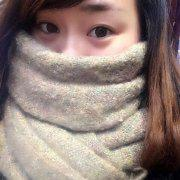WRONG: (26, 5, 137, 116)
